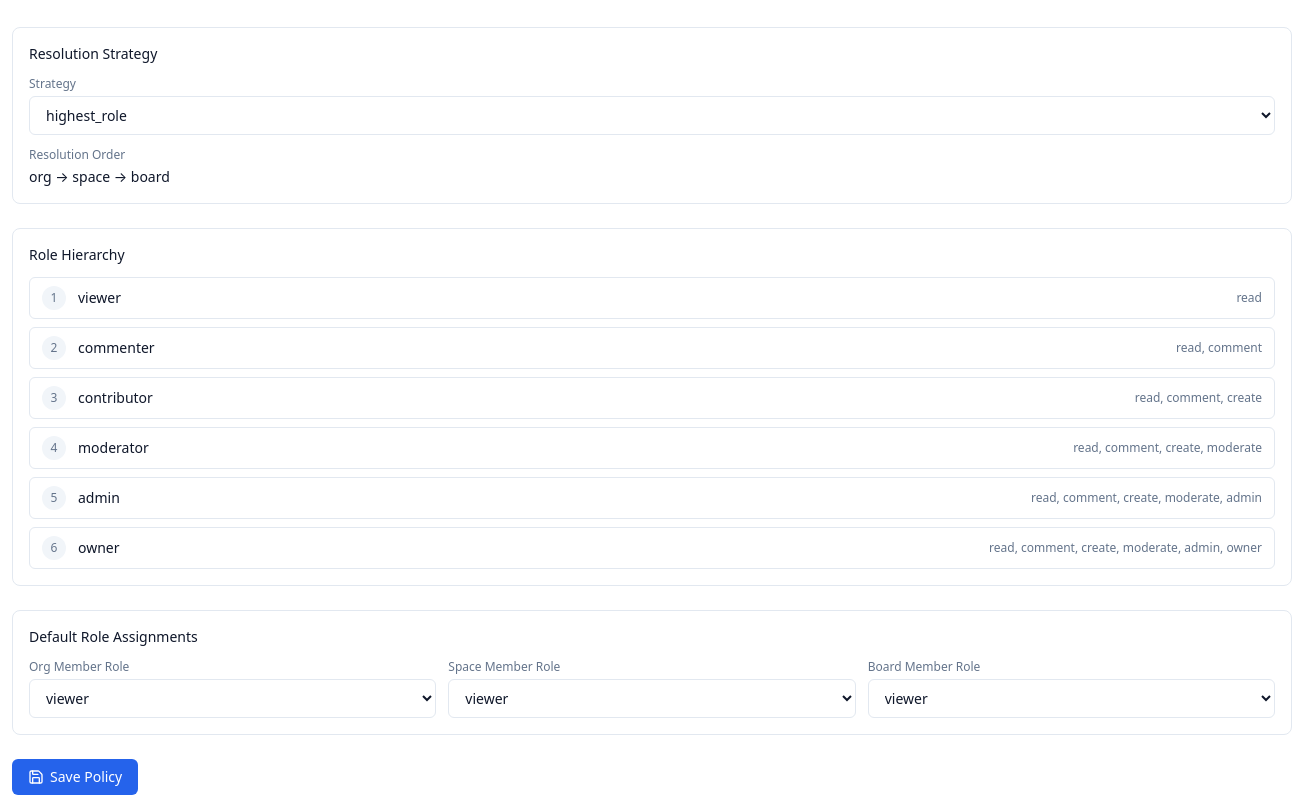
it: RBACPolicyEditor › shows success message after save
(page scrolled)
Click the button with test id "policy-save-btn" at [75, 777], box [12, 759, 138, 794]
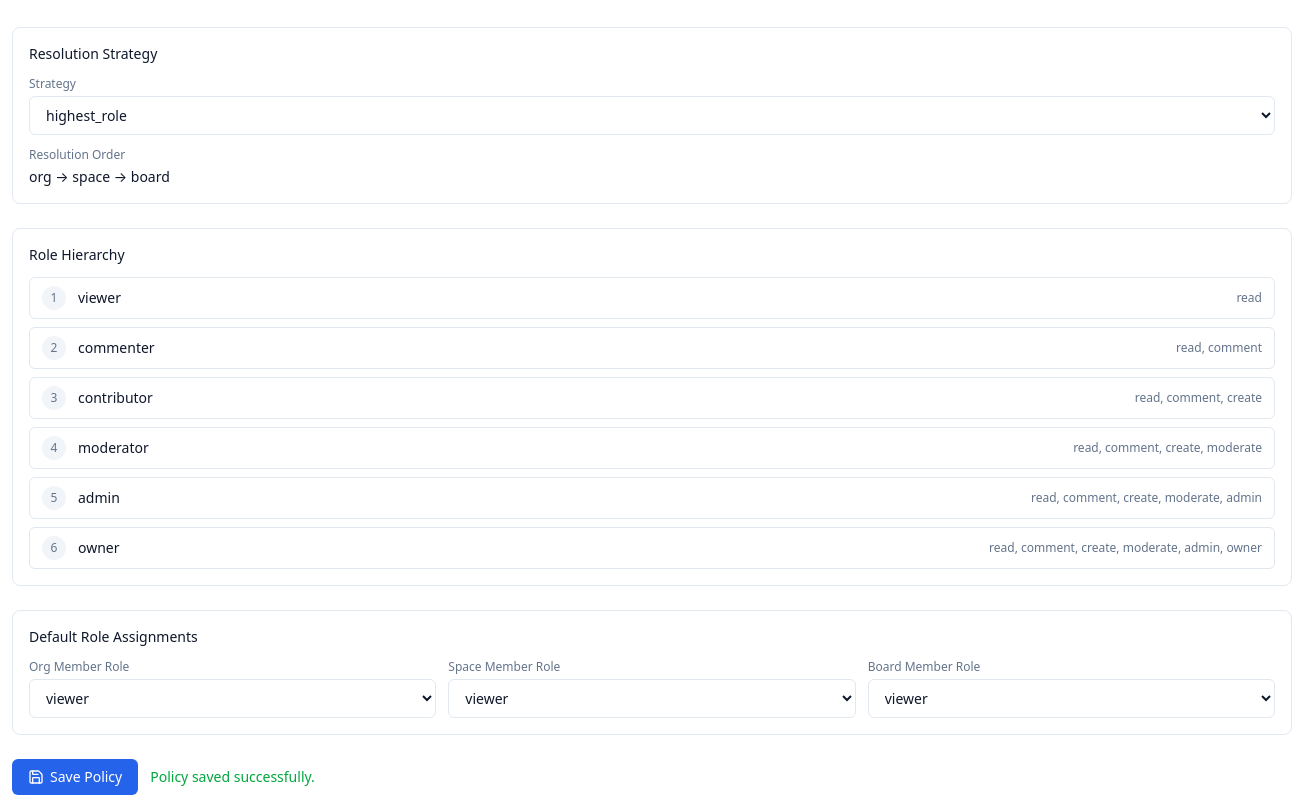
Now the text "Policy saved successfully." is shown, box [150, 767, 315, 787]
